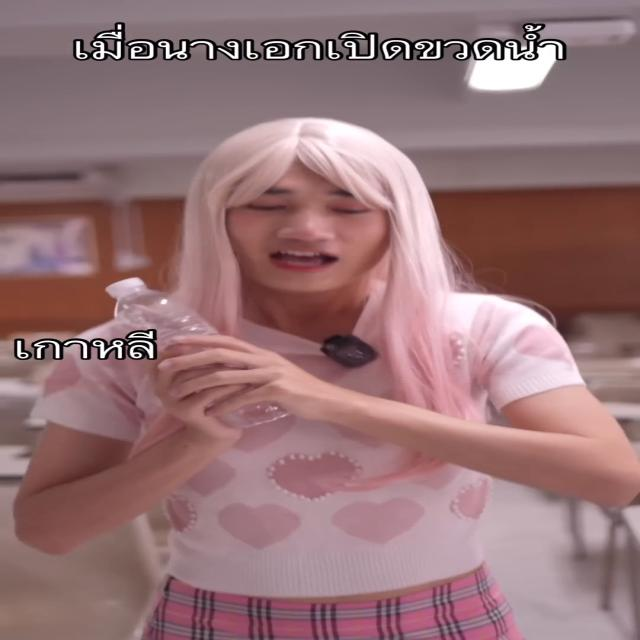bottle: (104, 275, 300, 431)
